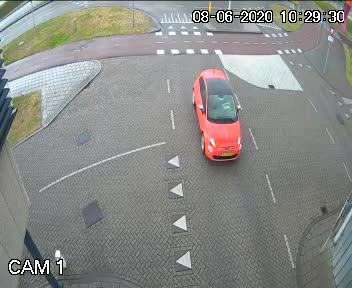car: (179, 65, 252, 175)
